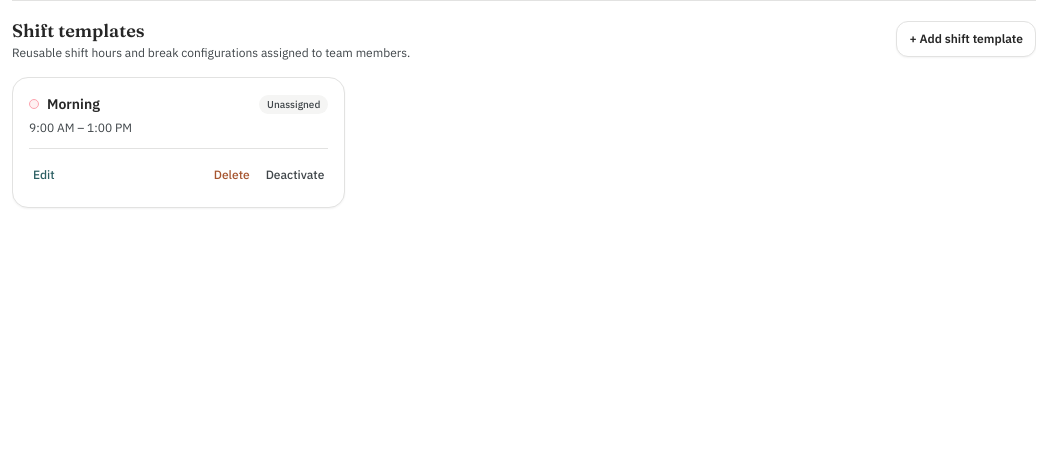
Test: ShiftTemplatesSection › shows an error when saving an edit fails
Click the button "Edit" at (44, 175), box [29, 159, 59, 191]
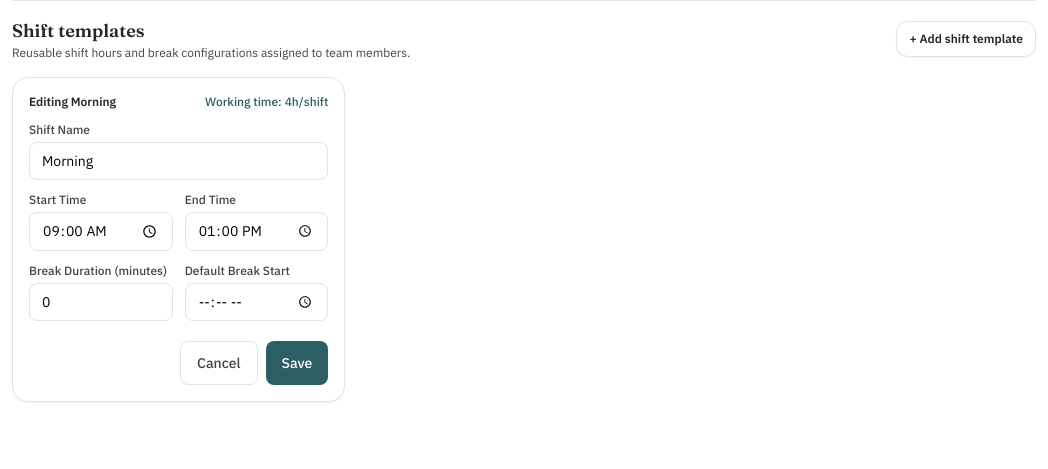
Click the button "Save" at (297, 363), box [266, 341, 328, 385]
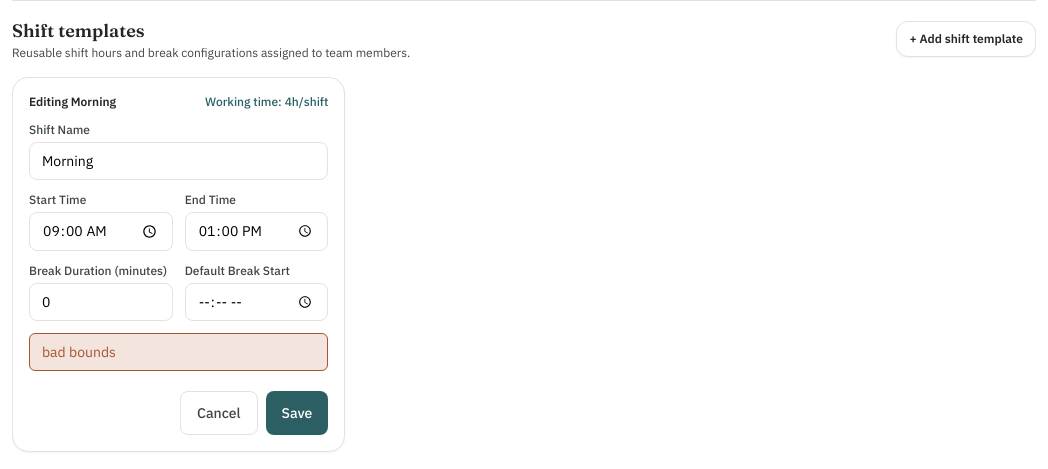
Expected: the text "bad bounds" is shown, [29, 333, 328, 371]
